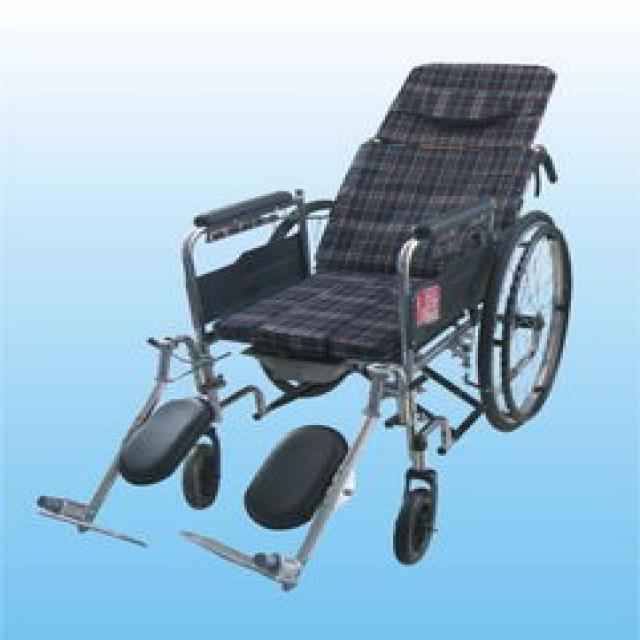wheelchairs: (24, 56, 566, 594)
